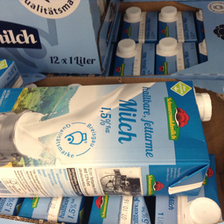milk: (1, 86, 217, 200)
